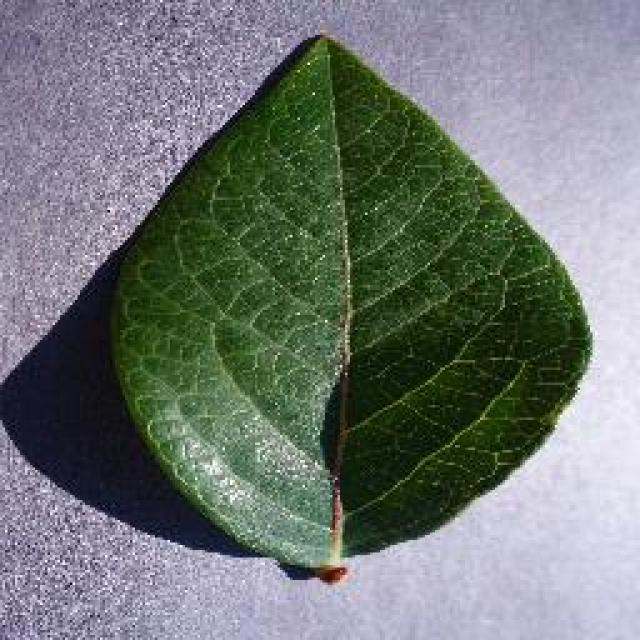Blu_healthy: (133, 80, 582, 505)
